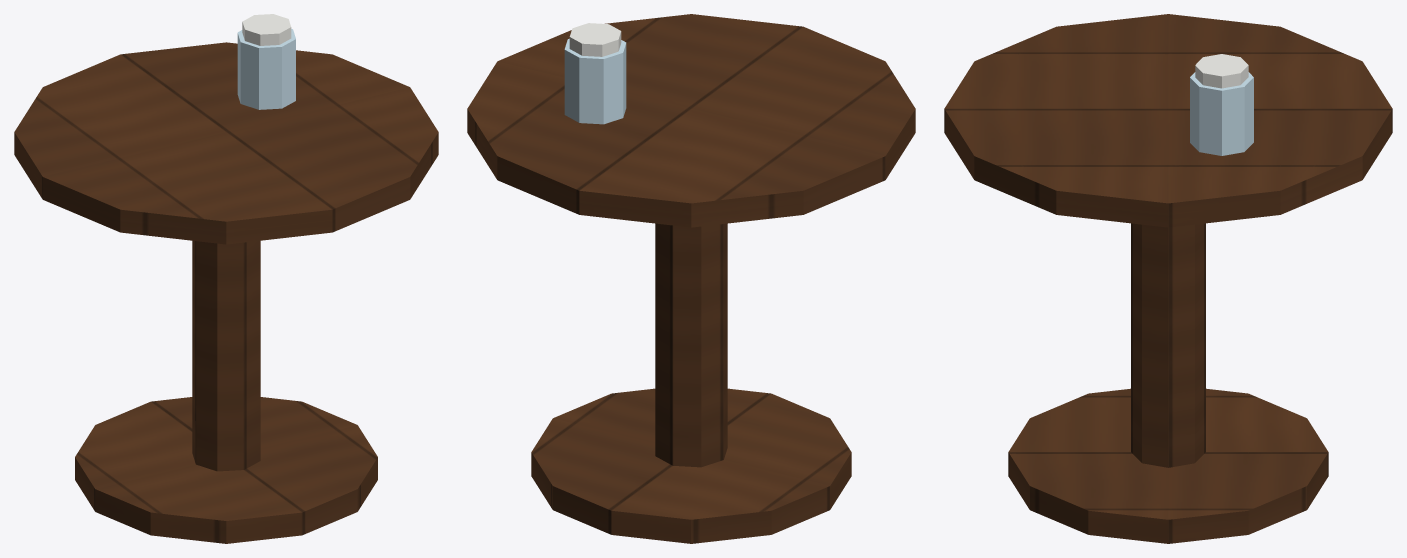
The model's file is stol_szynk.glb.
3 views of the same model, side by side, from view 1: azimuth 30°, elevation 25°; view 2: azimuth 150°, elevation 25°; view 3: azimuth 270°, elevation 25° (orthographic). The views are drawn at different scales.
Visible parts, largest first — view 1: stol_szynk; view 2: stol_szynk; view 3: stol_szynk.
Boxes of the visible parts, x1,y1,x2,y2 form: stol_szynk: (14, 14, 438, 543); stol_szynk: (467, 14, 915, 543); stol_szynk: (944, 14, 1392, 543).
Bounding box in the file's own units: 0.84 × 0.925 × 0.84.
3 materials, 1 textured.
